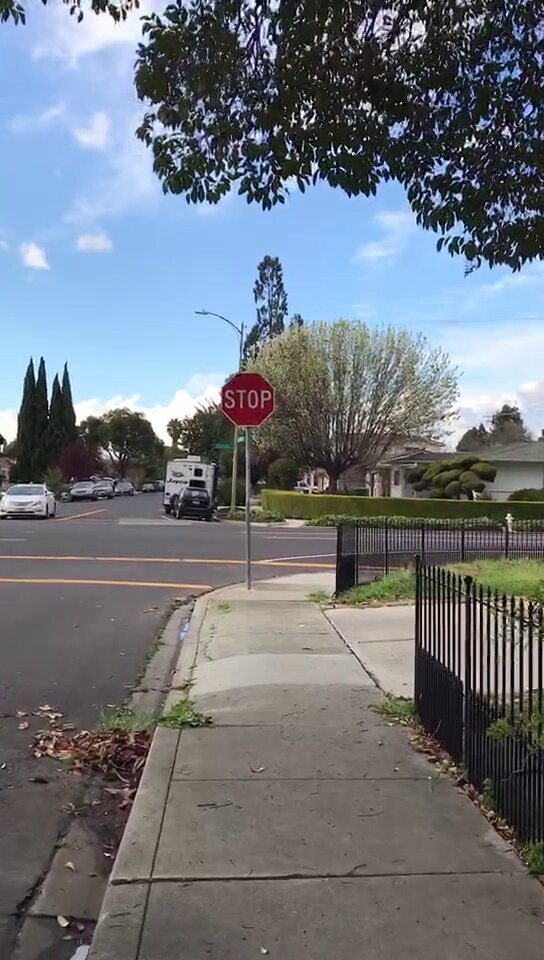stop_sign: (219, 374, 277, 426)
